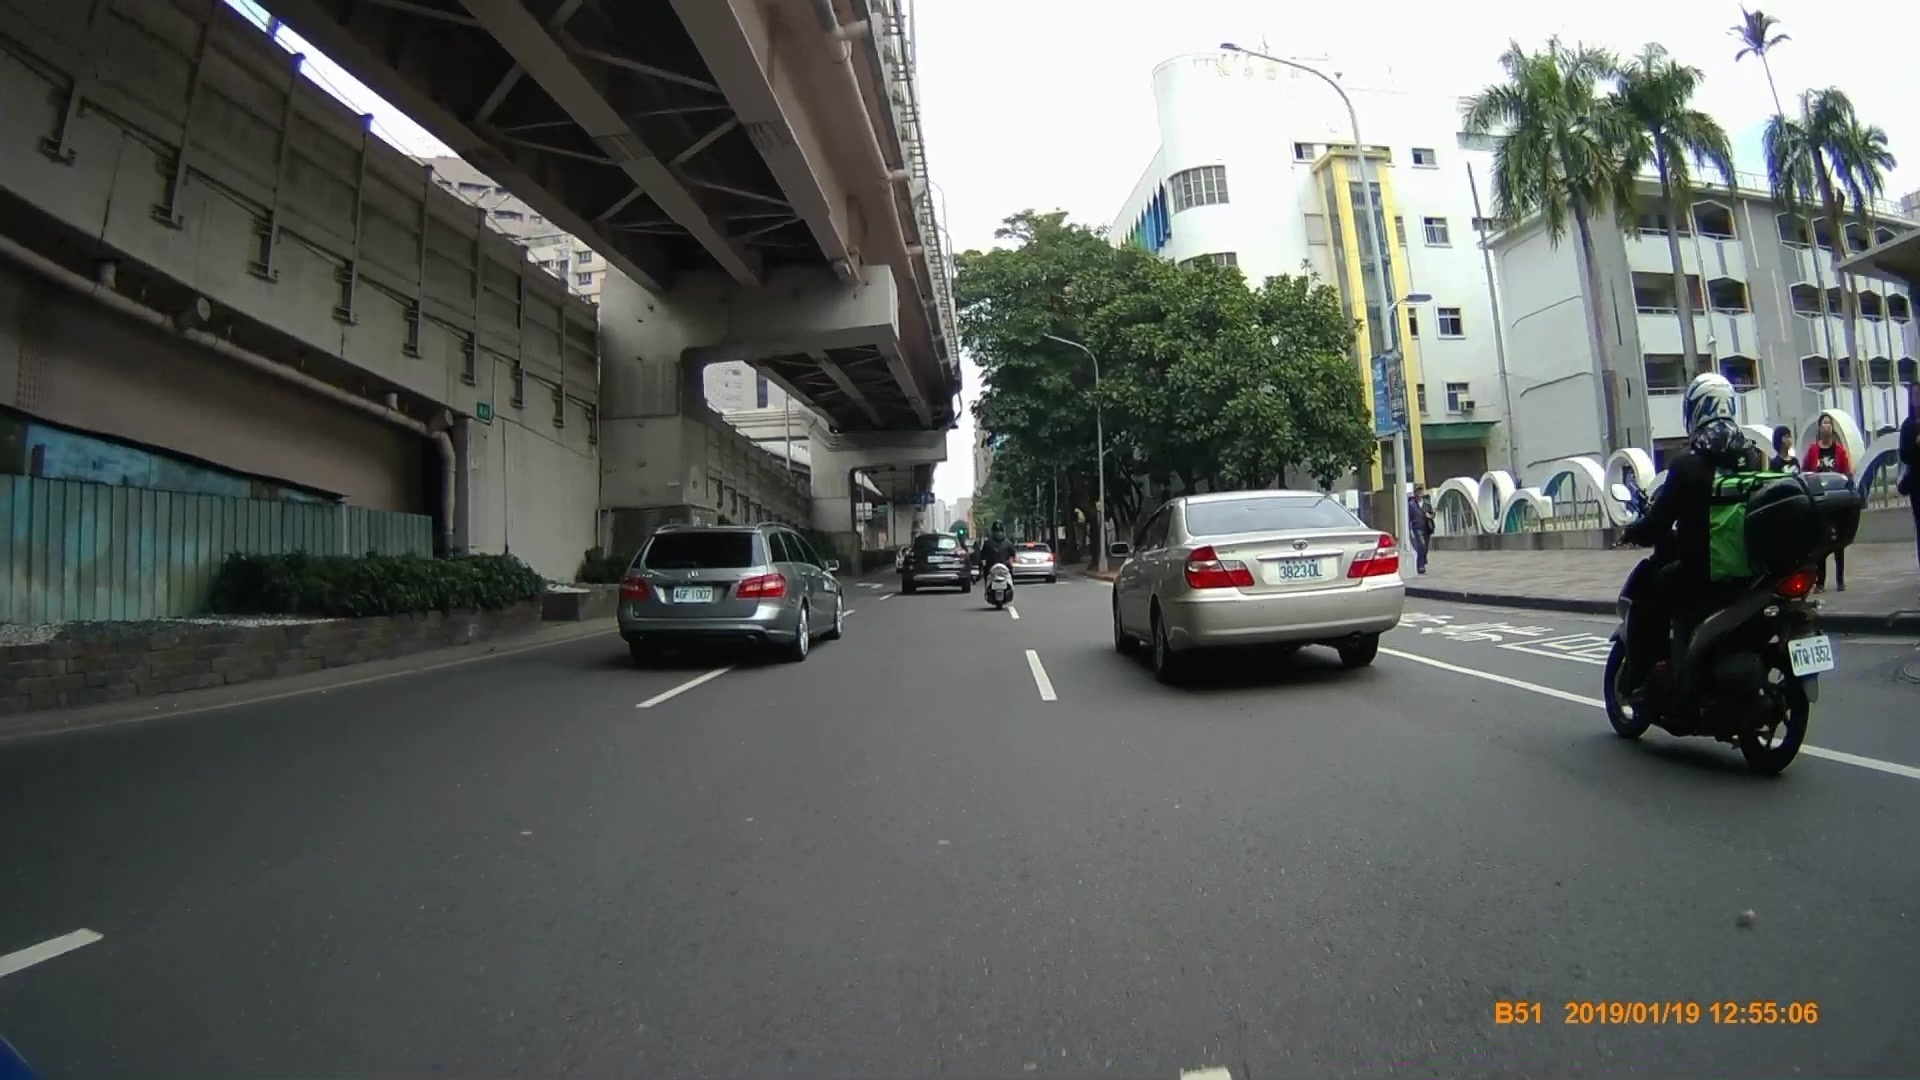License_plate: (1278, 550, 1328, 580), (671, 583, 716, 605)
